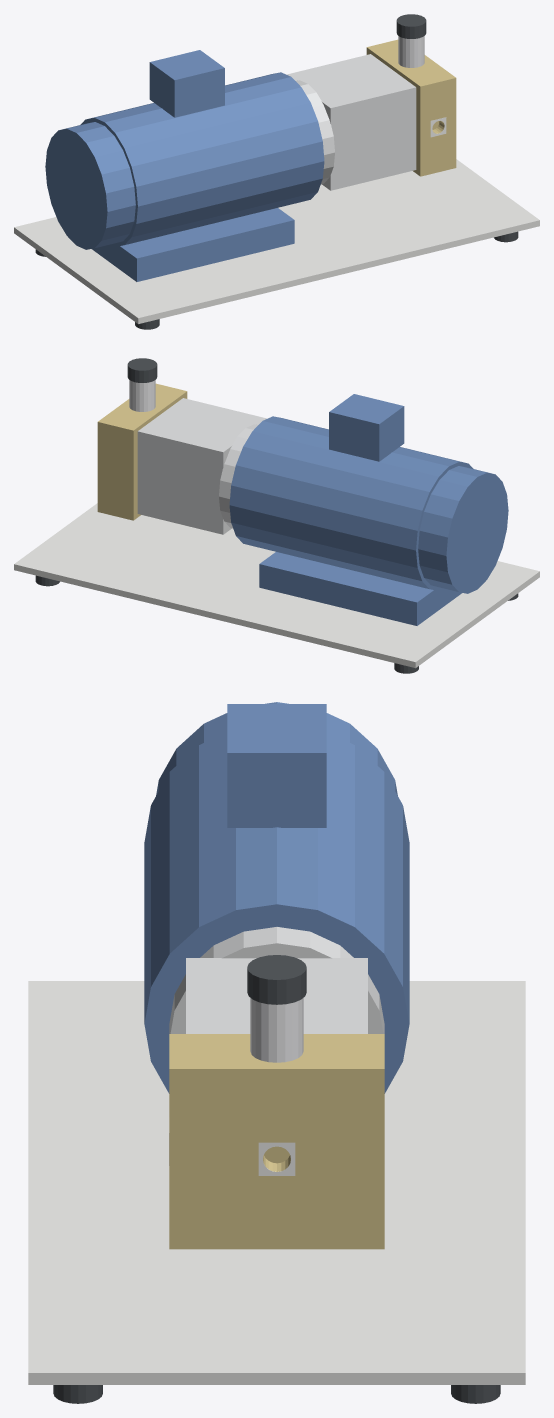
File: pressure-washer-skid.glb
3 renders of one model, top to bottom at view 1: azimuth 30°, elevation 25°; view 2: azimuth 150°, elevation 25°; view 3: azimuth 270°, elevation 25°, orthographic. The views are drawn at different scales.
Parts seen in each view (by area): view 1: body; view 2: body; view 3: body.
Boxes of the visible parts, left/top/right/bottom form: body: left=14, top=14, right=539, bottom=329; body: left=14, top=358, right=539, bottom=673; body: left=28, top=702, right=525, bottom=1403.
Size of what is drawn, in the model's own units: 0.56 by 0.268 by 0.3.
